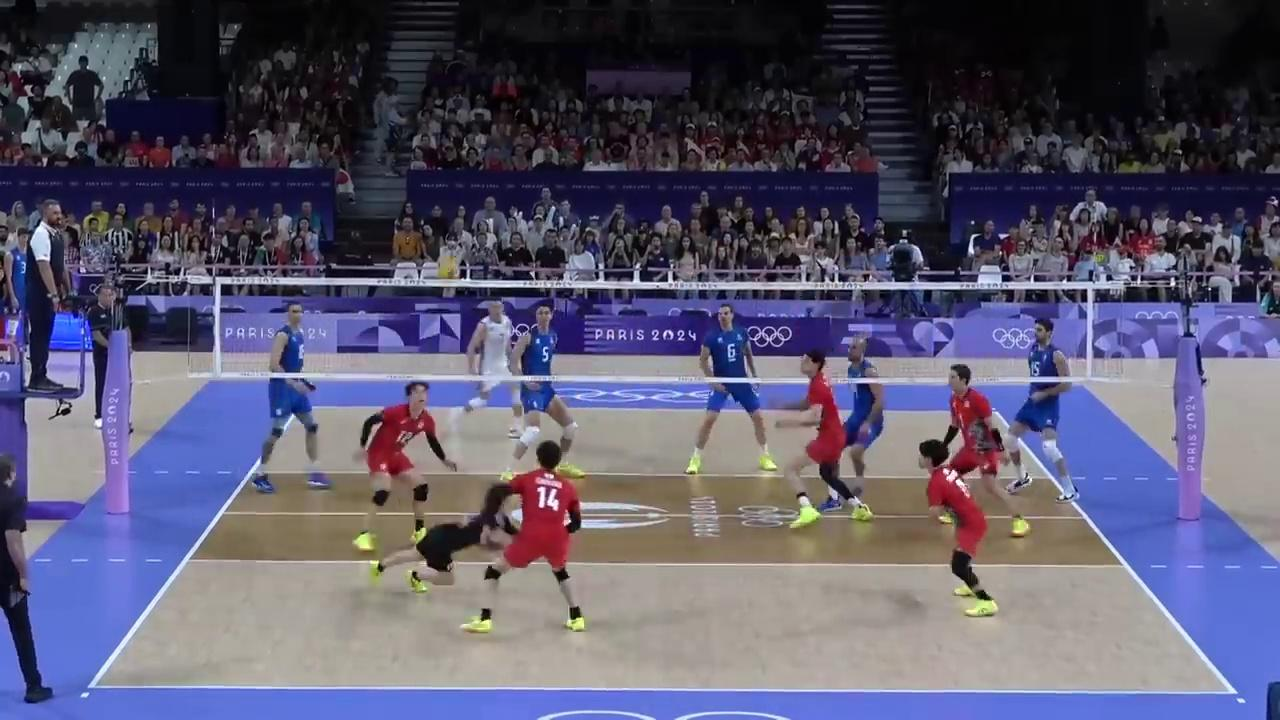ball: (439, 257, 458, 279)
